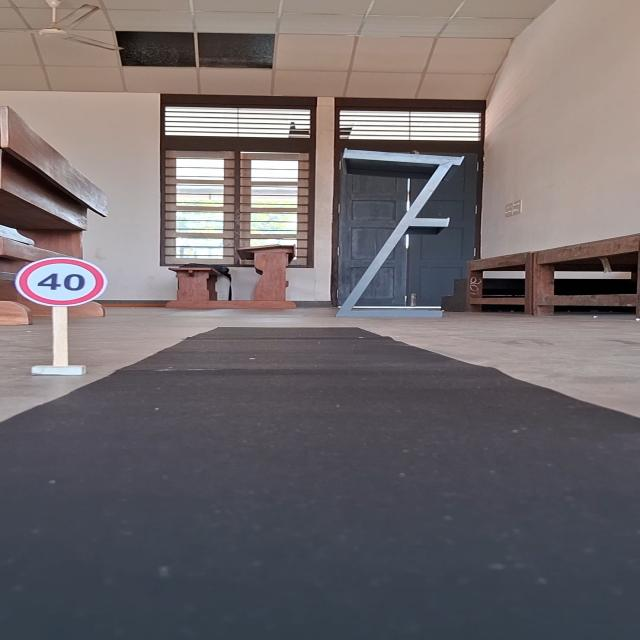Speed40: (13, 256, 108, 308)
